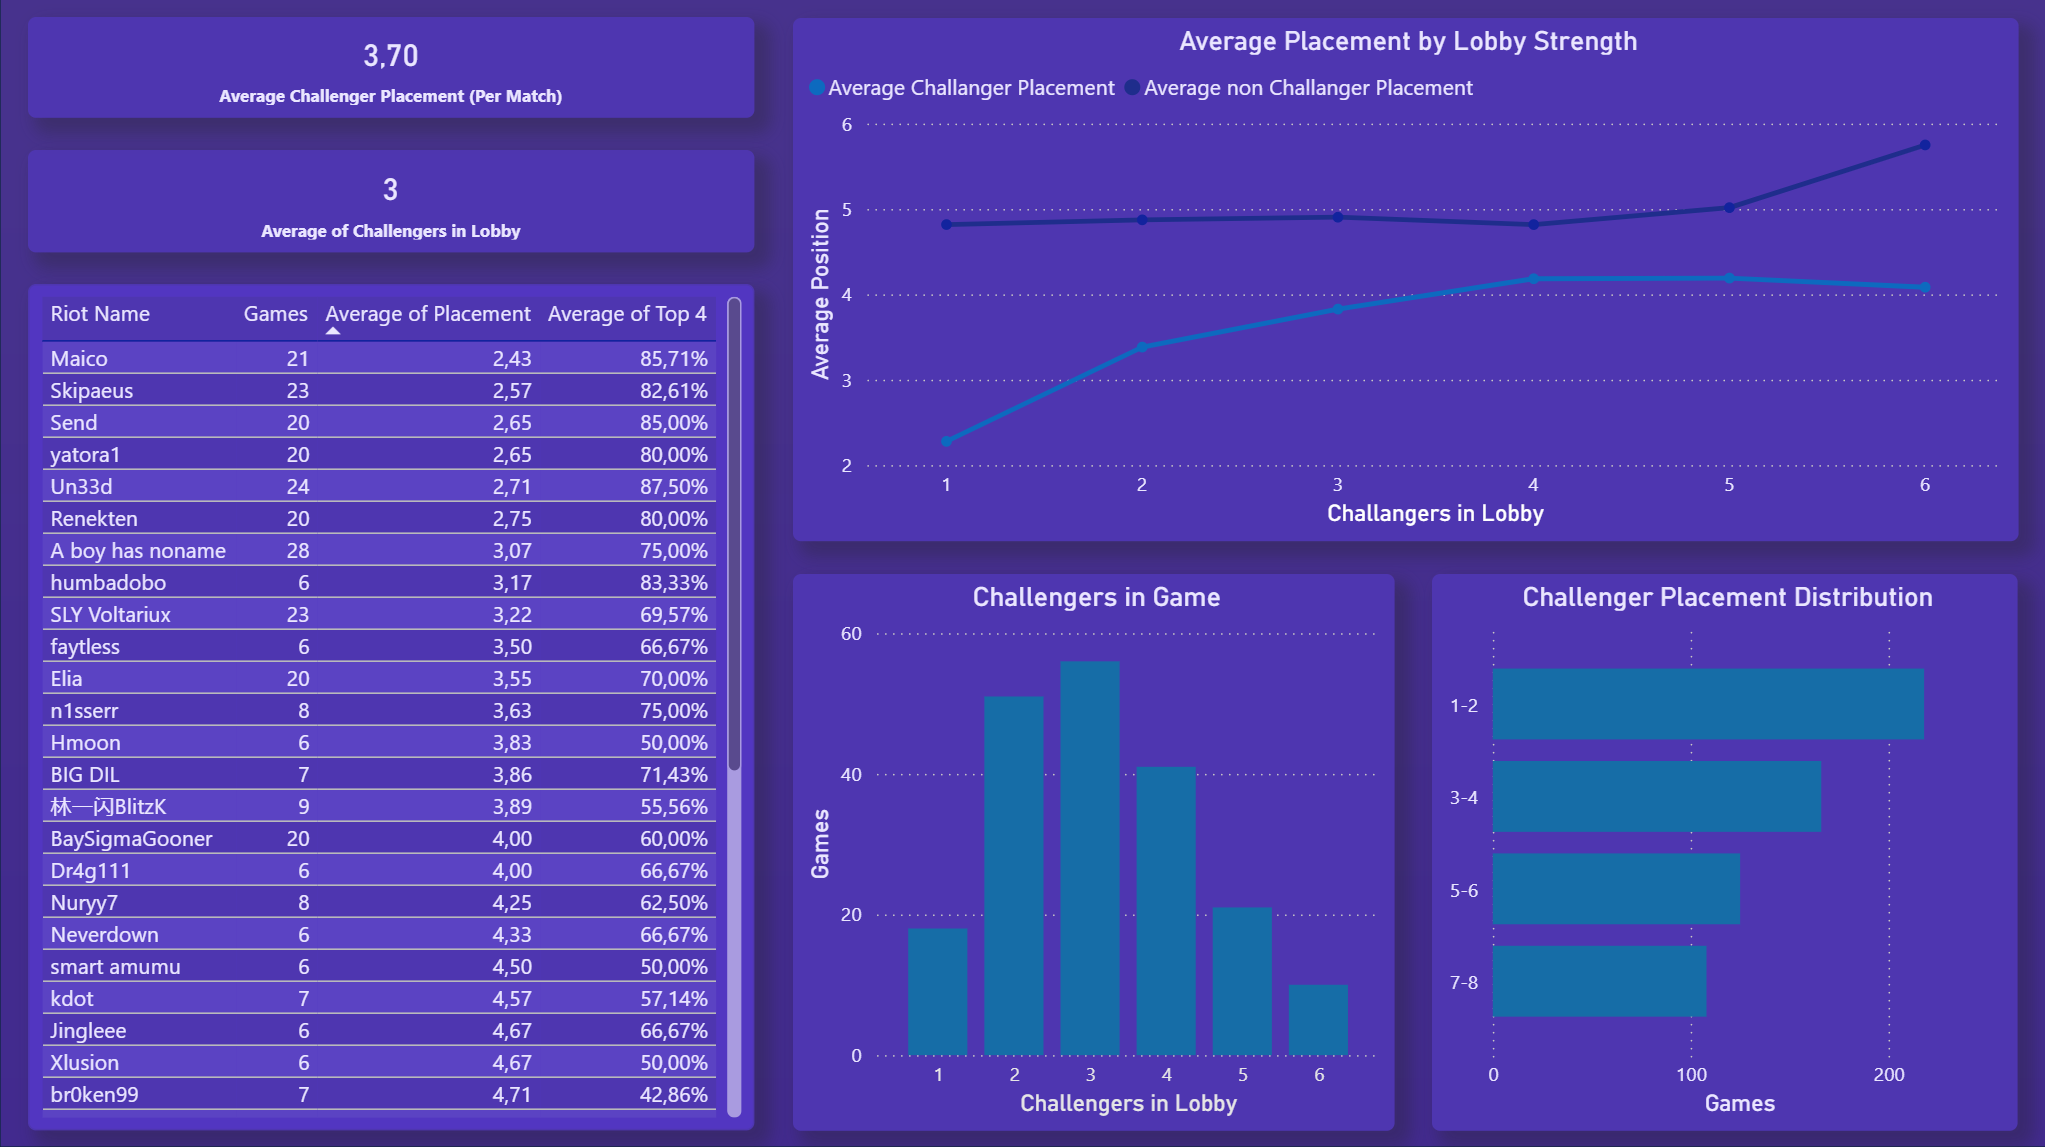

Layout of this report page (visuals, bound fields, positions):
{"tool":"powerbi","page":{"name":"Page 2","canvas":[1280,720],"ordinal":1},"visuals":[{"type":"lineChart","title":"Average Placement by Lobby Strength","fields":{"Category":["tft_project vw_tft_match_summary.challengers_in_lobby"],"Y":["Avg(tft_project vw_tft_match_summary.avg_challenger_placement)","Avg(tft_project vw_tft_match_summary.avg_non_challenger_placement)"]},"box":[496,12.3,765.5,326.8],"z":0},{"type":"clusteredColumnChart","title":"Challengers in Game","fields":{"Y":["Count(tft_project vw_tft_participants_enriched.match_id)"],"Category":["tft_project vw_tft_match_summary.challengers_in_lobby"]},"box":[496,360,376,347.7],"z":1000},{"type":"card","fields":{"Values":["Avg(tft_project vw_tft_match_summary.challengers_in_lobby)"]},"box":[17.8,94.8,453.5,64],"z":2000},{"type":"card","fields":{"Values":["Avg(tft_project vw_tft_match_summary.avg_challenger_placement)"]},"box":[18,12,453.7,62.5],"z":3000},{"type":"tableEx","fields":{"Values":["tft_project vw_tft_participants_enriched.riot_name","tft_project vw_tft_participants_enriched.match_id","Avg(tft_project vw_tft_participants_enriched.placement)","Avg(tft_project vw_tft_participants_enriched.Top4 flag)"]},"box":[17.8,178.5,453.5,529.2],"z":4000},{"type":"clusteredBarChart","title":"Challenger Placement Distribution","fields":{"Category":["tft_project vw_tft_participants_enriched.Placement Bucket"],"Y":["CountNonNull(tft_project vw_tft_participants_enriched.match_id)"]},"box":[895.4,360,366.2,347.7],"z":5000}]}

Visuals, with their boxes in screenshot pixels (x1, y1, x2, y2), scaled from the page's 1280x720 canvas onto the 2045x1147 screenshot:
"Average Placement by Lobby Strength" lineChart: bbox(792, 20, 2015, 540)
"Challengers in Game" clusteredColumnChart: bbox(792, 574, 1393, 1127)
card - Avg(tft_project vw_tft_match_summary.challengers_in_lobby): bbox(28, 151, 753, 253)
card - Avg(tft_project vw_tft_match_summary.avg_challenger_placement): bbox(29, 19, 754, 119)
tableEx - tft_project vw_tft_participants_enriched.riot_name x tft_project vw_tft_participants_enriched.match_id: bbox(28, 284, 753, 1127)
"Challenger Placement Distribution" clusteredBarChart: bbox(1431, 574, 2016, 1127)
